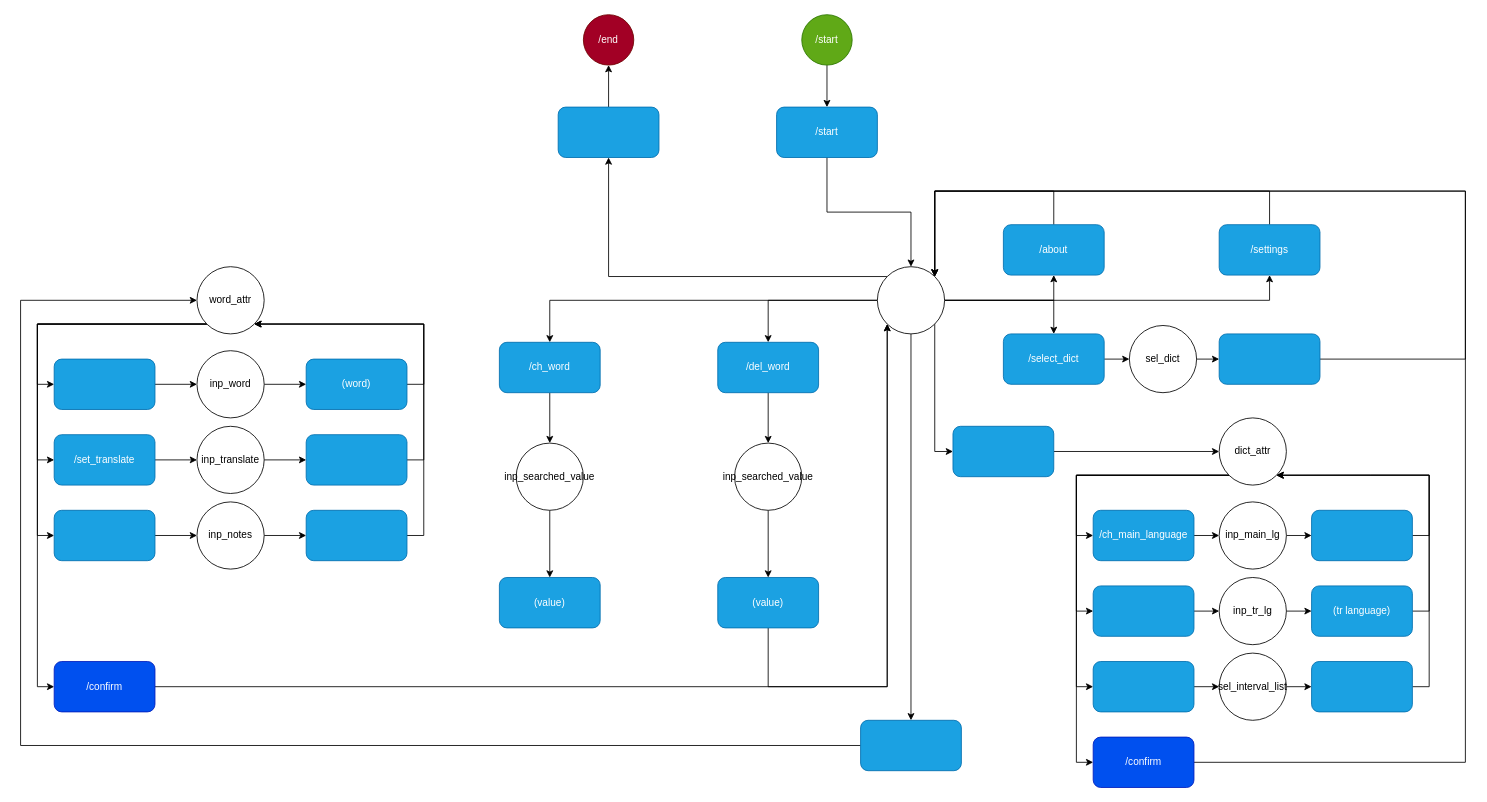
The diagram is 1487 pixels wide and 802 high, and some of its shapes have lost their labels. Here are the shapes that lost their labels. From the top down, the centre of each, then its label:
point (608, 132): /cancel
point (911, 300): loop
point (1269, 358): (dict)
point (104, 384): /set_word
point (356, 459): (translation)
point (1003, 451): /add_dict
point (104, 535): /set_note
point (356, 535): (notes)
point (1361, 535): (main language)
point (1143, 610): /ch_tran s _language
point (1143, 686): /ch_interval_list
point (1361, 686): (interval list)
point (910, 745): /add_word
